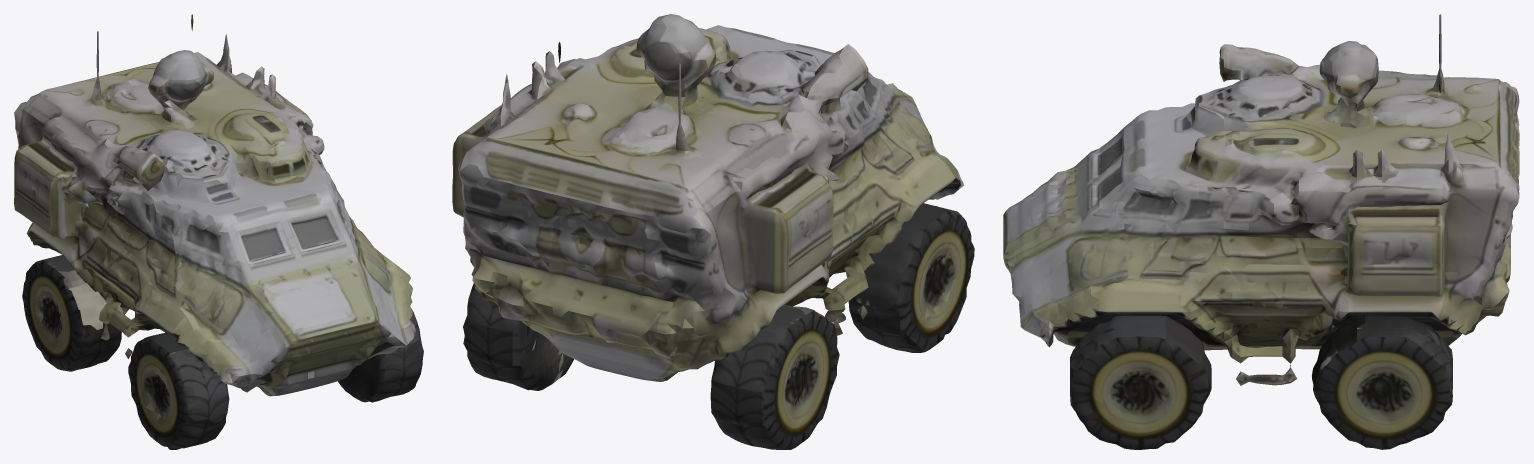
Rendered from CommandVehicle.glb.
3 views of the same model, side by side, from view 1: azimuth 30°, elevation 25°; view 2: azimuth 150°, elevation 25°; view 3: azimuth 270°, elevation 25° (orthographic). The views are drawn at different scales.
Parts seen in each view (by area): view 1: tmpf6r0mb85.ply; view 2: tmpf6r0mb85.ply; view 3: tmpf6r0mb85.ply.
Part boxes in pixels (left/top/right/bottom): tmpf6r0mb85.ply: left=14, top=14, right=423, bottom=449; tmpf6r0mb85.ply: left=452, top=14, right=974, bottom=449; tmpf6r0mb85.ply: left=1003, top=14, right=1519, bottom=449.
Bounding box in the file's own units: 1.31 × 1.42 × 1.93.
1 material, 1 textured.
